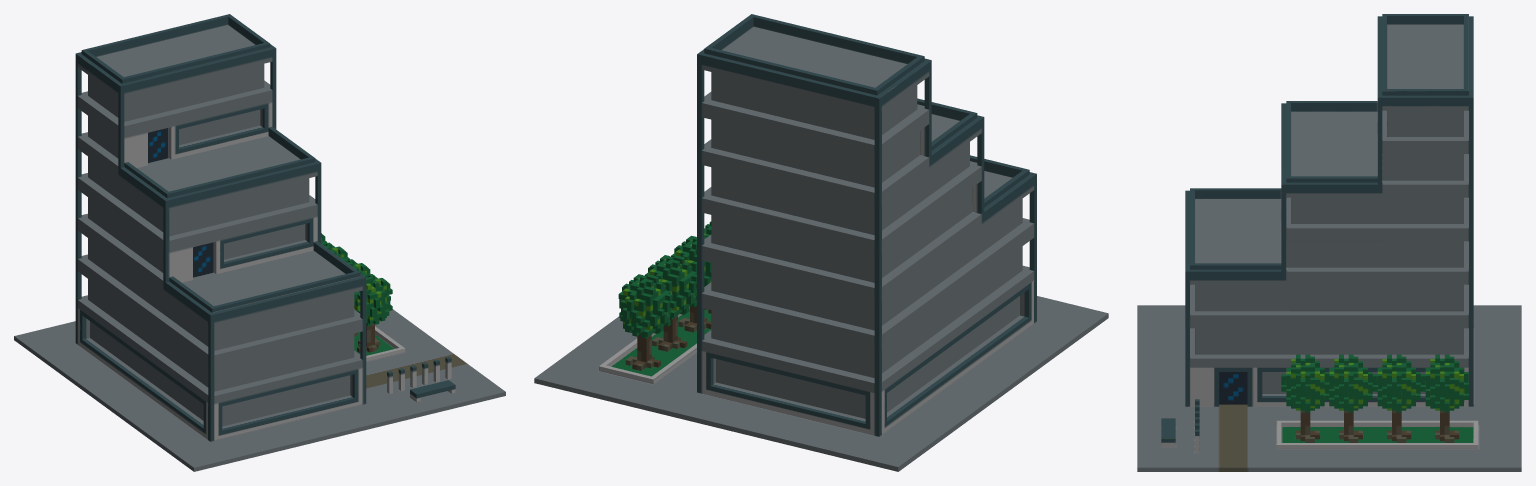
File: building_big_4_overtile.glb
3 views of the same model, side by side, from view 1: azimuth 30°, elevation 25°; view 2: azimuth 150°, elevation 25°; view 3: azimuth 270°, elevation 25° (orthographic). The views are drawn at different scales.
Visible parts, largest first — view 1: building_big_4_overtile; view 2: building_big_4_overtile; view 3: building_big_4_overtile.
Part boxes in pixels (left/top/right/bottom): building_big_4_overtile: left=14, top=14, right=505, bottom=471; building_big_4_overtile: left=534, top=14, right=1108, bottom=471; building_big_4_overtile: left=1137, top=14, right=1521, bottom=471.
Bounding box in the file's own units: 8 × 7.3 × 8.
1 material, 1 textured.
